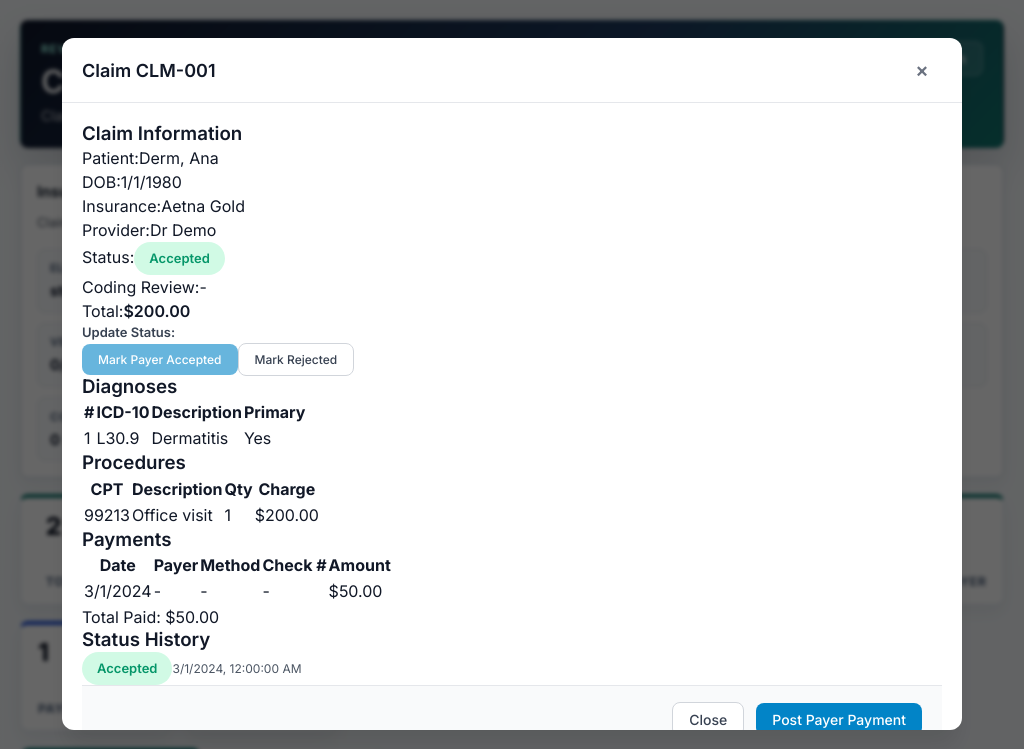
ClaimsPage › closes claim detail deep links without reopening the modal
The image size is (1024, 749).
Expected: the heading "Claim Information" is shown, [82,122,242,145]
Click the button "Close": (708, 720) [672,702,744,737]
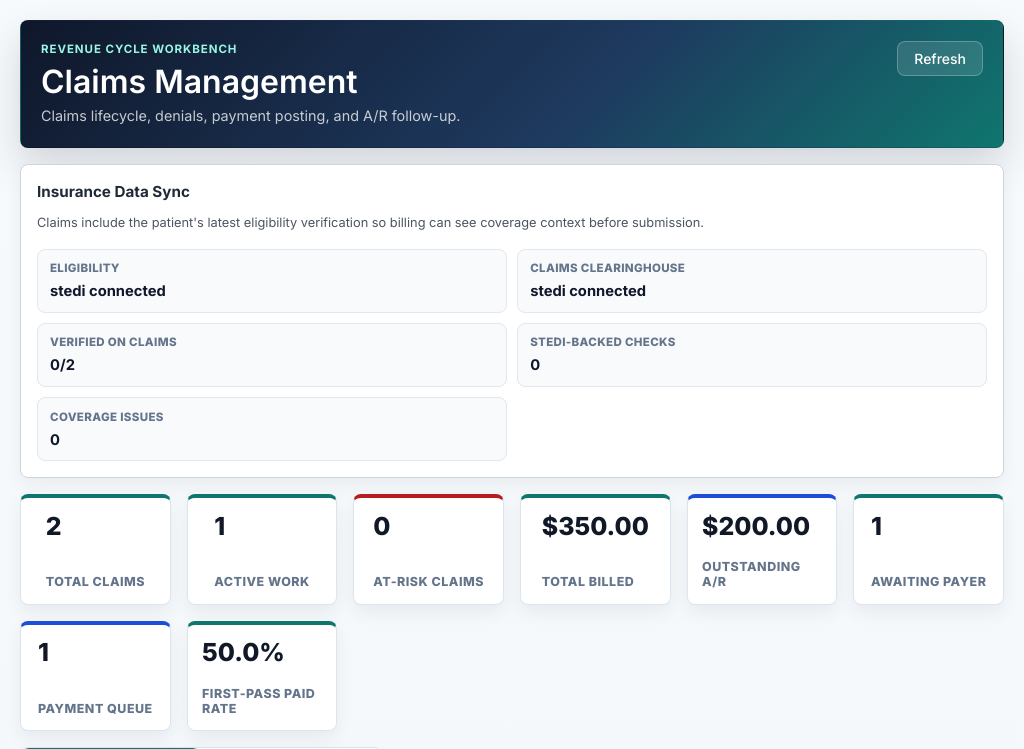
Expected: the heading "Claim Information" is gone
